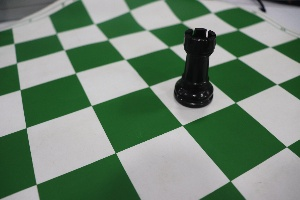black_rook: (168, 14, 222, 112)
